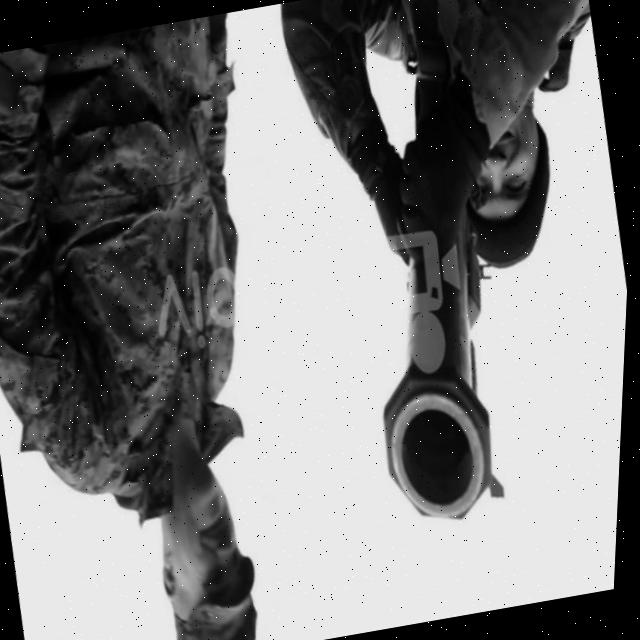rocket: (335, 202, 528, 532)
